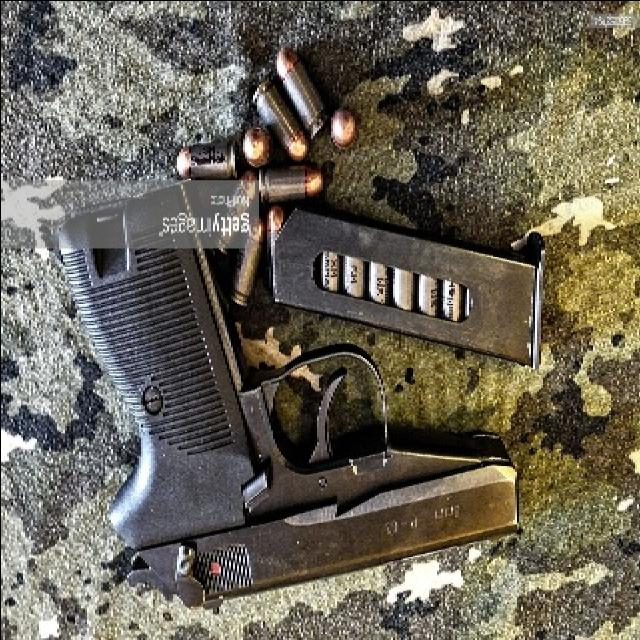handgun: (57, 203, 523, 621)
